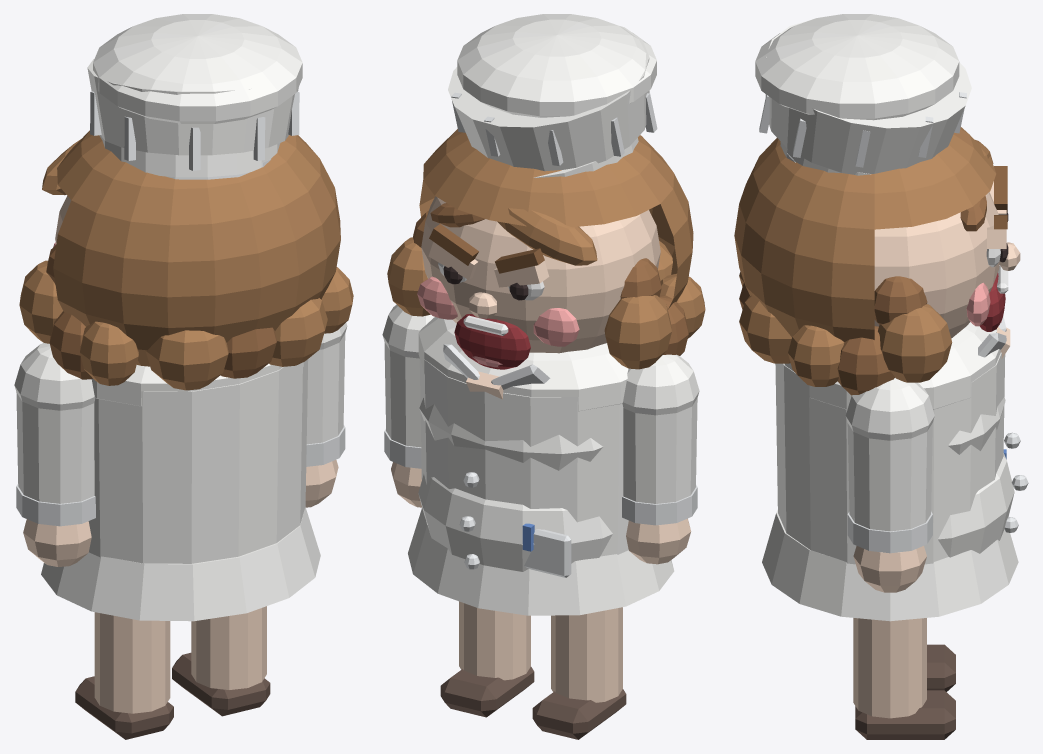
The model's file is saleswoman.glb.
The picture shows the model from 3 angles, left to right: view 1: azimuth 30°, elevation 25°; view 2: azimuth 150°, elevation 25°; view 3: azimuth 270°, elevation 25°; orthographic projection. The views are drawn at different scales.
Parts seen in each view (by area): view 1: Head, Torso, ArmL, LegL, LegR, ArmR; view 2: Head, Torso, ArmL, LegL, LegR, ArmR; view 3: Head, Torso, ArmR, LegR, LegL.
Part boxes in pixels (x1,y1,x2,y2): Head: (19,14,353,390); Torso: (41,359,320,621); ArmL: (14,343,95,566); LegL: (75,612,173,739); LegR: (172,606,270,716); ArmR: (305,322,347,507); Head: (387,14,705,369); Torso: (408,317,674,615); ArmL: (622,354,699,564); LegL: (532,607,626,739); LegR: (440,601,534,717); ArmR: (382,304,434,507); Head: (734,14,1020,395); Torso: (762,316,1028,621); ArmR: (845,378,934,592); LegR: (853,618,955,739); LegL: (927,644,955,691).
Size of the model in its own units: 0.93 by 1.91 by 0.7593.
